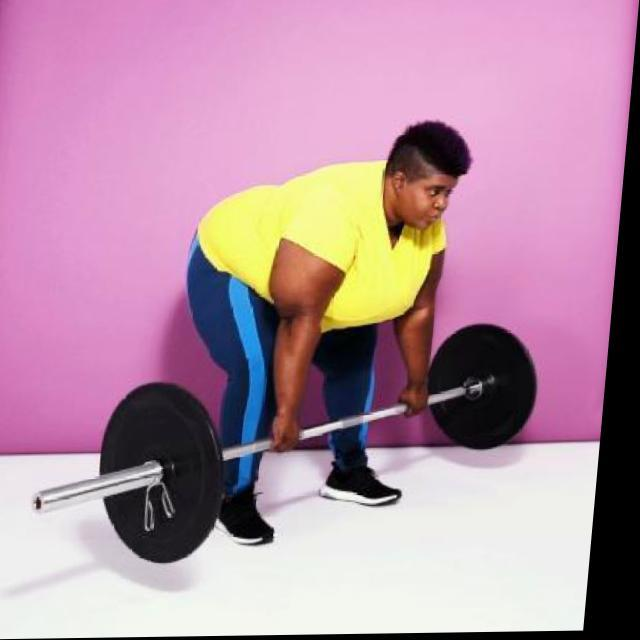barbell: (27, 380, 238, 571)
